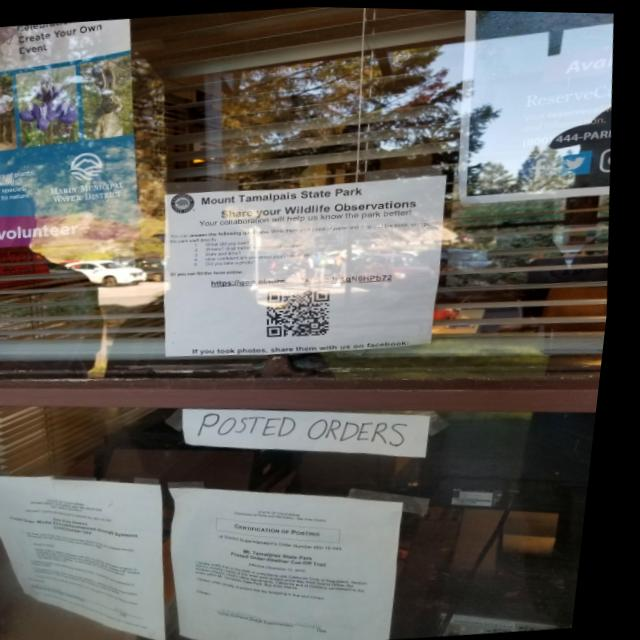QR_CODE: (255, 274, 357, 347)
